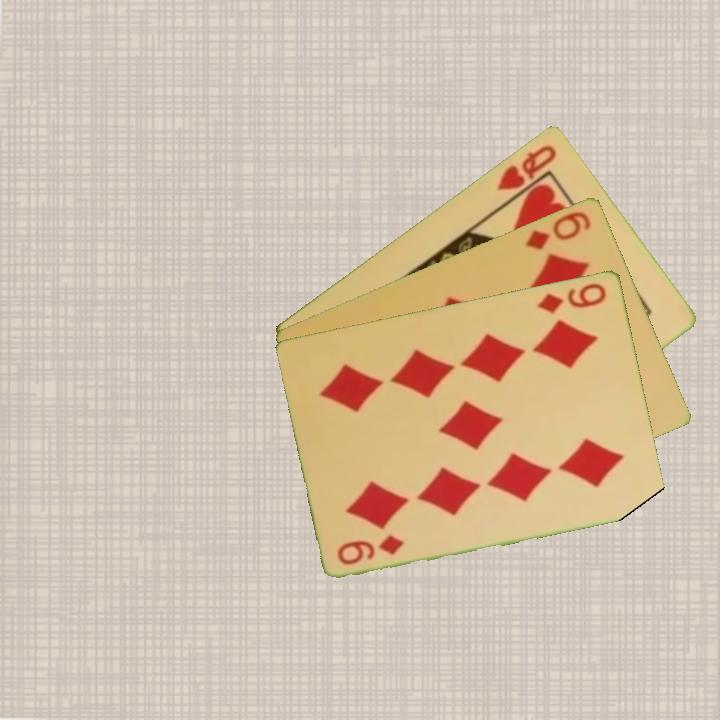6d: (521, 207, 594, 253)
9d: (533, 279, 610, 316), (334, 530, 407, 567)
Qh: (493, 140, 560, 193)
